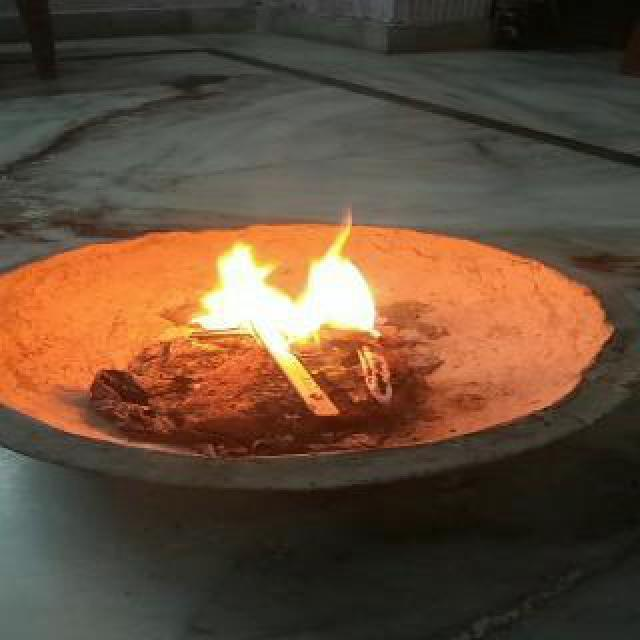Fire: (186, 196, 410, 360)
